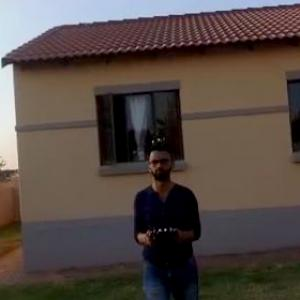follow: (124, 137, 204, 299)
